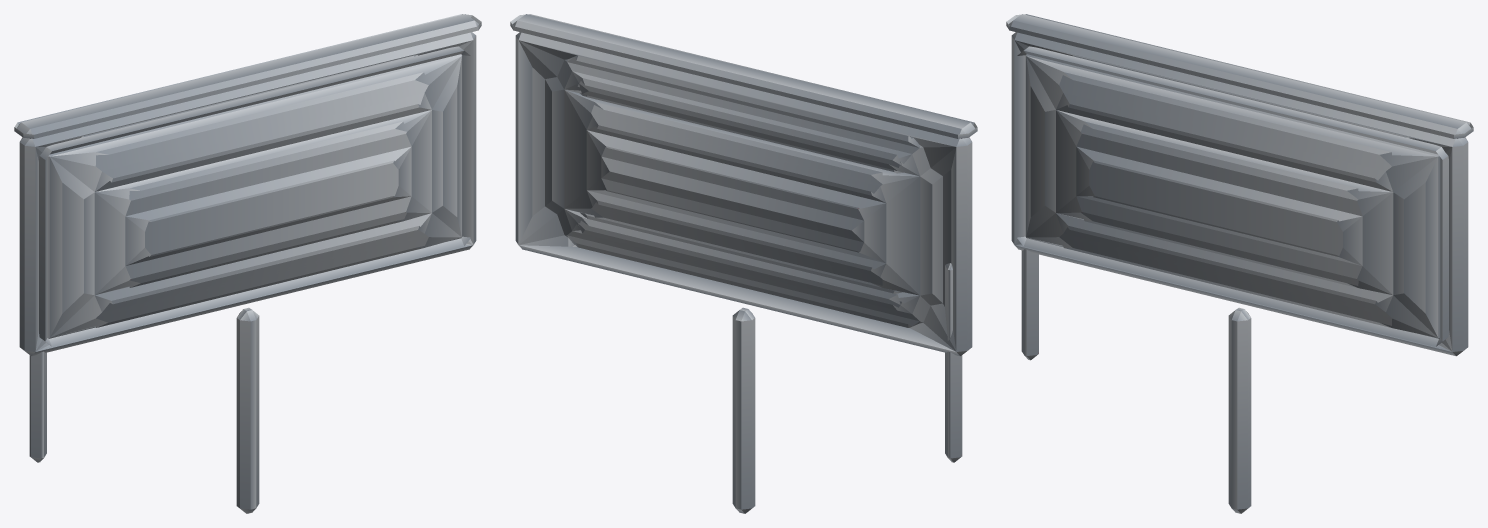
Rendered from dt_billboard.fbx.
3 renders of one model, left to right at view 1: azimuth 30°, elevation 25°; view 2: azimuth 150°, elevation 25°; view 3: azimuth 330°, elevation 25°, orthographic.
Visible parts, largest first — view 1: dt_billboard; view 2: dt_billboard; view 3: dt_billboard.
Part boxes in pixels (x1,y1,x2,y2): dt_billboard: [14, 14, 481, 513]; dt_billboard: [510, 14, 977, 513]; dt_billboard: [1006, 14, 1473, 513].
Size of the model in its own units: 1800 by 1654 by 255.
